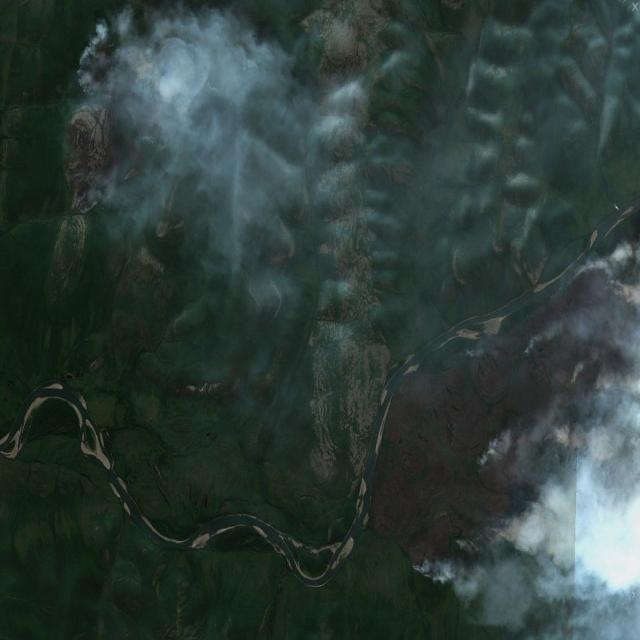fire: (411, 249, 640, 587), (63, 40, 197, 222)
